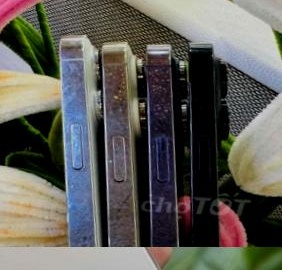scratch: (64, 147, 102, 247), (96, 57, 137, 139), (139, 59, 183, 133), (55, 44, 88, 130), (146, 187, 188, 247), (104, 188, 138, 247)
